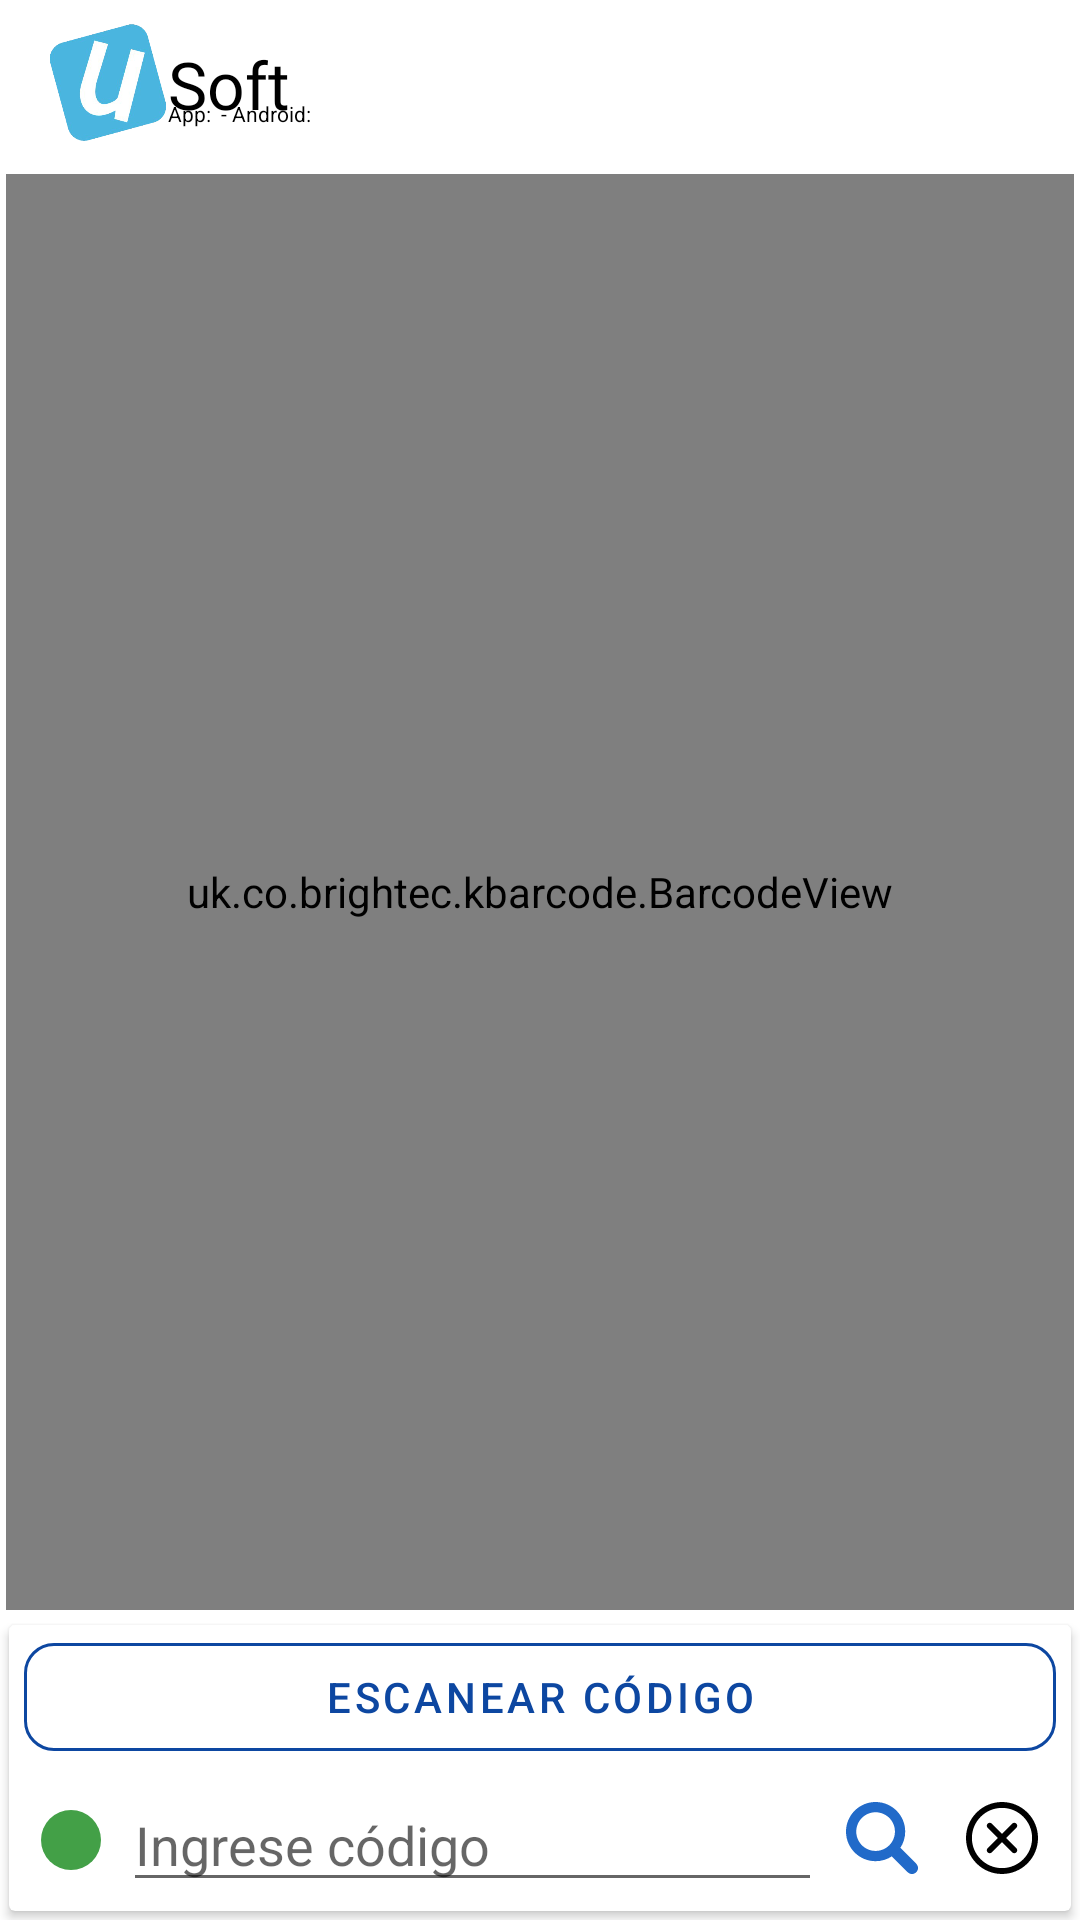

Where icons sit on this 1080*1920 app screen, as (x1, y1, x2, y2):
limpiar: (966, 1802, 1038, 1874)
search: (846, 1802, 918, 1874)
